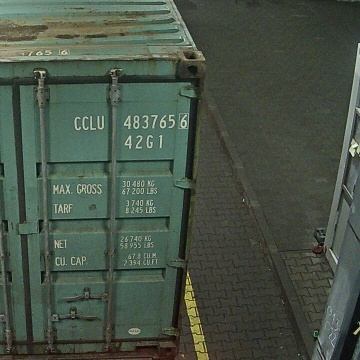serial_id: (74, 114, 187, 130)
